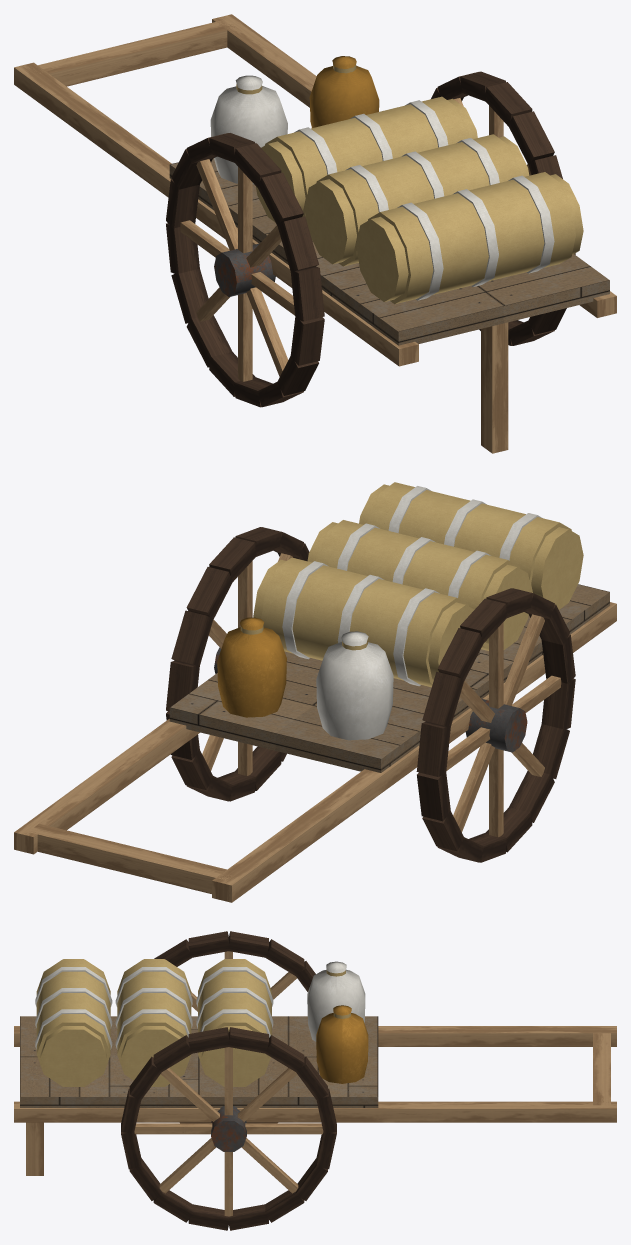
Rendered from HO_Prop_Cart_Loaded.fbx.
3 views of the same model, one above another, from view 1: azimuth 30°, elevation 25°; view 2: azimuth 150°, elevation 25°; view 3: azimuth 270°, elevation 25° (orthographic). The views are drawn at different scales.
Visible parts, largest first — view 1: HO_Prop_Cart_Loaded__Straw, HO_Prop_Cart_Loaded__Timber_Light, HO_Prop_Cart_Loaded__Timber_Dark, HO_Prop_Cart_Loaded__Wood_Planks, HO_Prop_Cart_Loaded__Cloth_White, HO_Prop_Cart_Loaded__Cloth_Ochre, HO_Prop_Cart_Loaded__Iron_Wrought; view 2: HO_Prop_Cart_Loaded__Straw, HO_Prop_Cart_Loaded__Timber_Light, HO_Prop_Cart_Loaded__Timber_Dark, HO_Prop_Cart_Loaded__Wood_Planks, HO_Prop_Cart_Loaded__Cloth_White, HO_Prop_Cart_Loaded__Cloth_Ochre, HO_Prop_Cart_Loaded__Iron_Wrought; view 3: HO_Prop_Cart_Loaded__Timber_Light, HO_Prop_Cart_Loaded__Straw, HO_Prop_Cart_Loaded__Timber_Dark, HO_Prop_Cart_Loaded__Wood_Planks, HO_Prop_Cart_Loaded__Cloth_White, HO_Prop_Cart_Loaded__Cloth_Ochre, HO_Prop_Cart_Loaded__Iron_Wrought.
Part boxes in pixels (<box>): HO_Prop_Cart_Loaded__Straw: <box>236,64,583,304</box>; HO_Prop_Cart_Loaded__Timber_Light: <box>14,14,616,453</box>; HO_Prop_Cart_Loaded__Timber_Dark: <box>166,71,575,407</box>; HO_Prop_Cart_Loaded__Wood_Planks: <box>169,158,609,345</box>; HO_Prop_Cart_Loaded__Cloth_White: <box>210,75,554,300</box>; HO_Prop_Cart_Loaded__Cloth_Ochre: <box>309,56,379,127</box>; HO_Prop_Cart_Loaded__Iron_Wrought: <box>214,243,275,296</box>; HO_Prop_Cart_Loaded__Straw: <box>240,482,583,687</box>; HO_Prop_Cart_Loaded__Timber_Light: <box>14,553,616,902</box>; HO_Prop_Cart_Loaded__Timber_Dark: <box>166,527,575,862</box>; HO_Prop_Cart_Loaded__Wood_Planks: <box>169,584,609,772</box>; HO_Prop_Cart_Loaded__Cloth_White: <box>282,486,542,740</box>; HO_Prop_Cart_Loaded__Cloth_Ochre: <box>217,617,286,717</box>; HO_Prop_Cart_Loaded__Iron_Wrought: <box>214,647,527,752</box>; HO_Prop_Cart_Loaded__Timber_Light: <box>14,951,616,1216</box>; HO_Prop_Cart_Loaded__Straw: <box>36,959,350,1086</box>; HO_Prop_Cart_Loaded__Timber_Dark: <box>121,931,336,1230</box>; HO_Prop_Cart_Loaded__Wood_Planks: <box>20,1016,378,1107</box>; HO_Prop_Cart_Loaded__Cloth_White: <box>35,961,365,1049</box>; HO_Prop_Cart_Loaded__Cloth_Ochre: <box>316,1005,368,1083</box>; HO_Prop_Cart_Loaded__Iron_Wrought: <box>211,1106,246,1151</box>.
Size of the model in its own units: 4.4 by 3.62 by 10.1.
